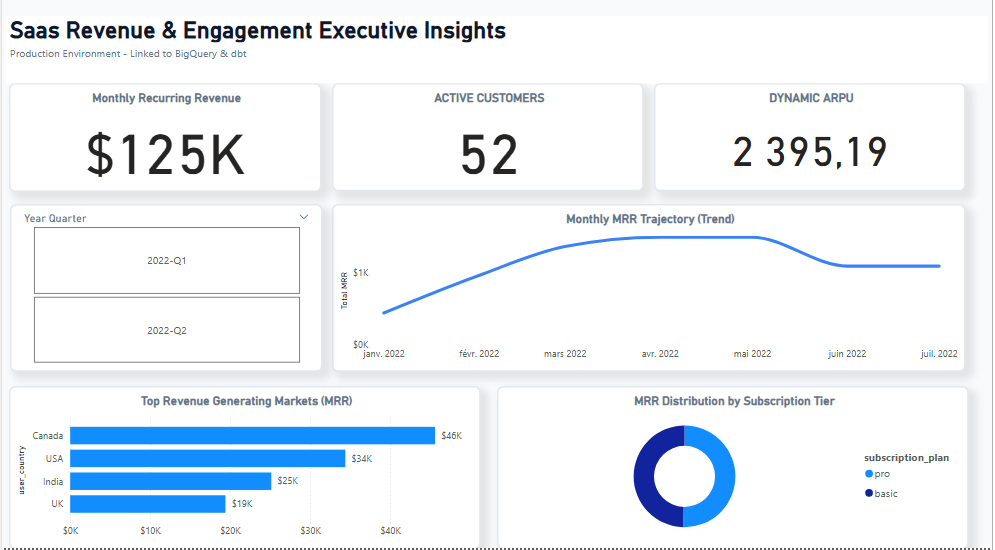

The dashboard page shown, as its layout file describes it:
{"tool":"powerbi","page":{"name":"Saas_revenue-ops","canvas":[1280,720],"ordinal":0},"visuals":[{"type":"card","title":"Monthly Recurring Revenue","fields":{"Values":["_Measures.Total MRR"]},"box":[9.6,118.5,403.7,140.5],"z":0},{"type":"card","title":"ACTIVE CUSTOMERS","fields":{"Values":["_Measures.Active Customers"]},"box":[426.7,118.8,403,140],"z":1000},{"type":"card","title":"DYNAMIC ARPU","fields":{"Values":["_Measures.Dynamic ARPU"]},"box":[843,118.7,403,140],"z":2000},{"type":"lineChart","title":"Monthly MRR Trajectory (Trend)","fields":{"Category":["fct_mrr.financial_month"],"Y":["_Measures.Total MRR"]},"box":[426.1,275.6,819,217],"z":3000},{"type":"clusteredBarChart","title":"Top Revenue Generating Markets (MRR)","fields":{"Category":["fct_mrr.user_country"],"Y":["_Measures.Total MRR"]},"box":[9.5,510.1,610,210.7],"z":4000},{"type":"donutChart","title":"MRR Distribution by Subscription Tier","fields":{"Category":["fct_mrr.subscription_plan"],"Y":["_Measures.Total MRR"]},"box":[640,510.1,609.9,210.7],"z":5000},{"type":"textbox","title":"Saas Revenue & Engagement Executive Insights","box":[4.9,32.7,1268.6,86.6],"z":6000},{"type":"slicer","fields":{"Values":["dim_month.year_quarter"]},"box":[10,276,404,217],"z":7000}]}

Visuals, with their boxes in screenshot pixels (x1, y1, x2, y2), scaled from the page's 1280x720 canvas onto the 995x550 screenshot:
"Monthly Recurring Revenue" card: {"left": 7, "top": 91, "right": 321, "bottom": 198}
"ACTIVE CUSTOMERS" card: {"left": 332, "top": 91, "right": 645, "bottom": 198}
"DYNAMIC ARPU" card: {"left": 655, "top": 91, "right": 969, "bottom": 198}
"Monthly MRR Trajectory (Trend)" lineChart: {"left": 331, "top": 211, "right": 968, "bottom": 376}
"Top Revenue Generating Markets (MRR)" clusteredBarChart: {"left": 7, "top": 390, "right": 482, "bottom": 549}
"MRR Distribution by Subscription Tier" donutChart: {"left": 498, "top": 390, "right": 972, "bottom": 549}
"Saas Revenue & Engagement Executive Insights" textbox: {"left": 4, "top": 25, "right": 990, "bottom": 91}
slicer - dim_month.year_quarter: {"left": 8, "top": 211, "right": 322, "bottom": 377}
